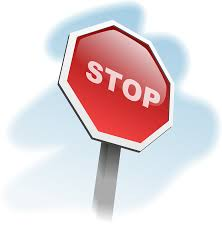stop sign: (59, 22, 174, 150)
